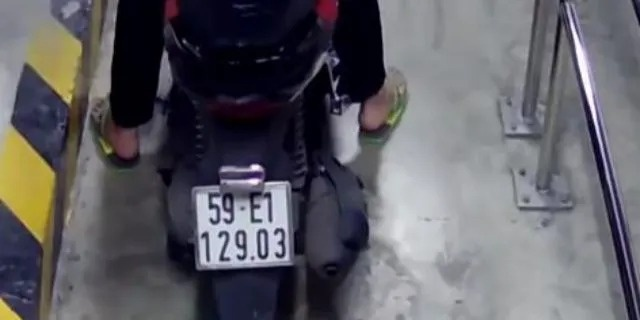bien_so: (191, 182, 290, 268)
